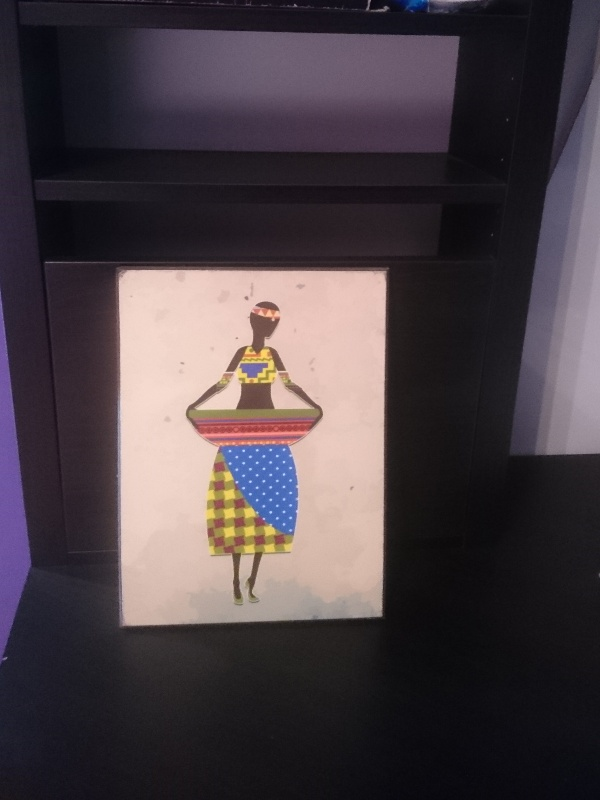my image: (118, 269, 387, 628)
